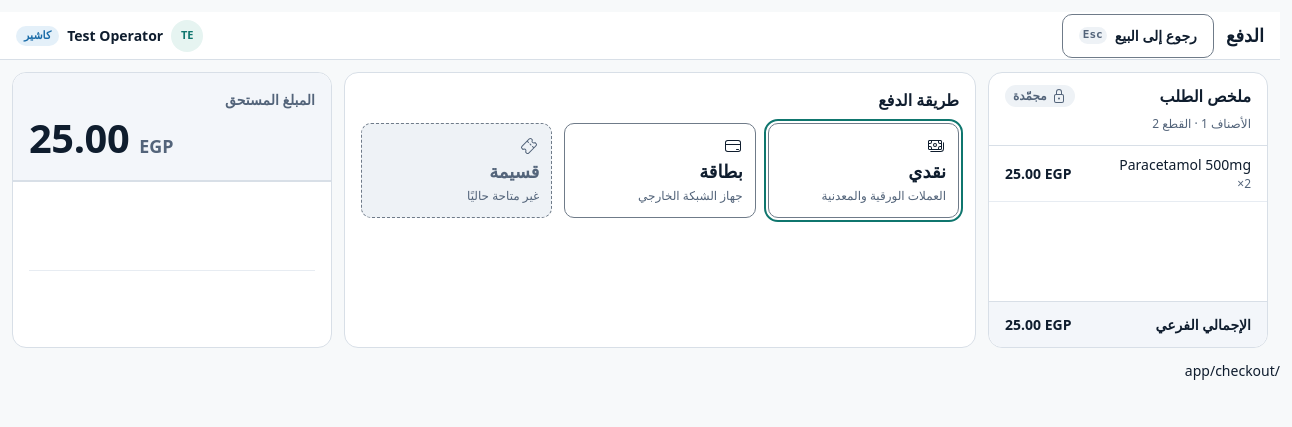
Test: CheckoutRoute — Back to the same sale (RT-26) › a refusal keeps the cashier on Checkout with the envelope and cart untouched
Click the button with test id "payment-surface-back" at (1138,36), box x1=1062 y1=14 x2=1214 y2=58
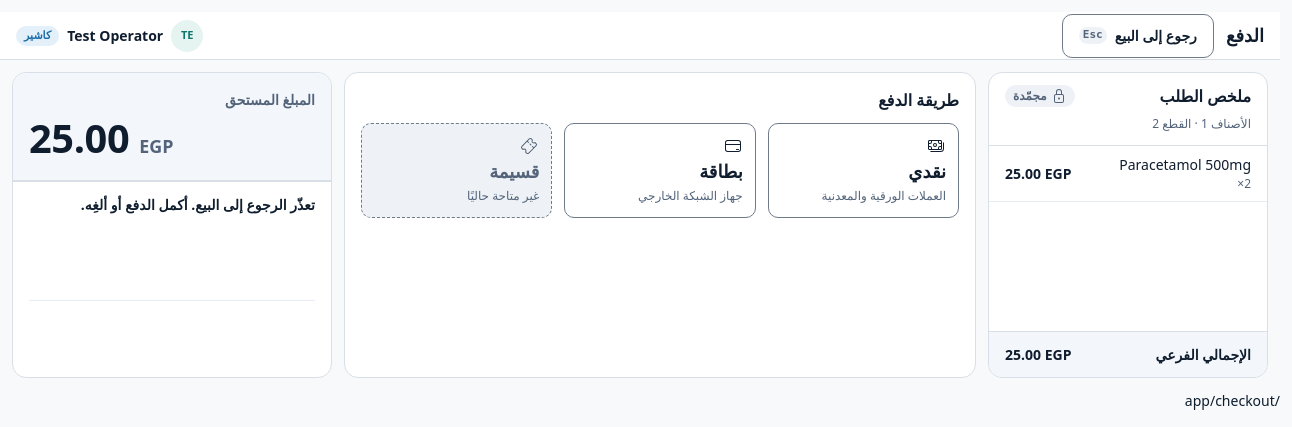
Expected: the text with test id "location-probe" reads "/app/checkout", x1=1185 y1=391 x2=1280 y2=410
Result: the message with test id "payment-surface-bridge-refusal" shows "تعذّر الرجوع إلى البيع" at x1=81 y1=195 x2=315 y2=214
